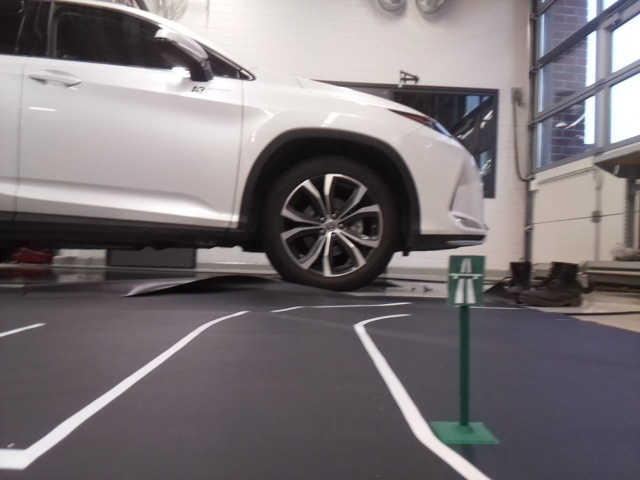HighwayEntrance: (449, 253, 484, 307)
